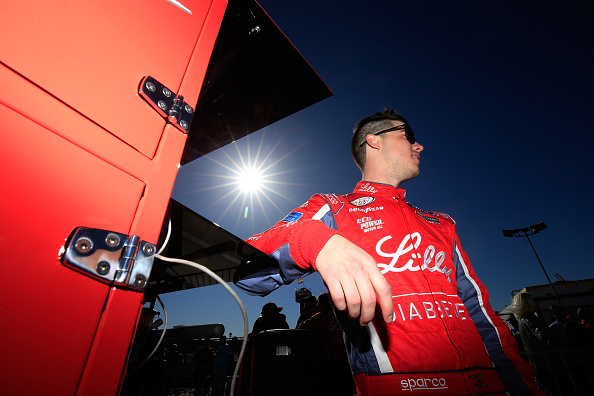em pe: (244, 87, 513, 396)
